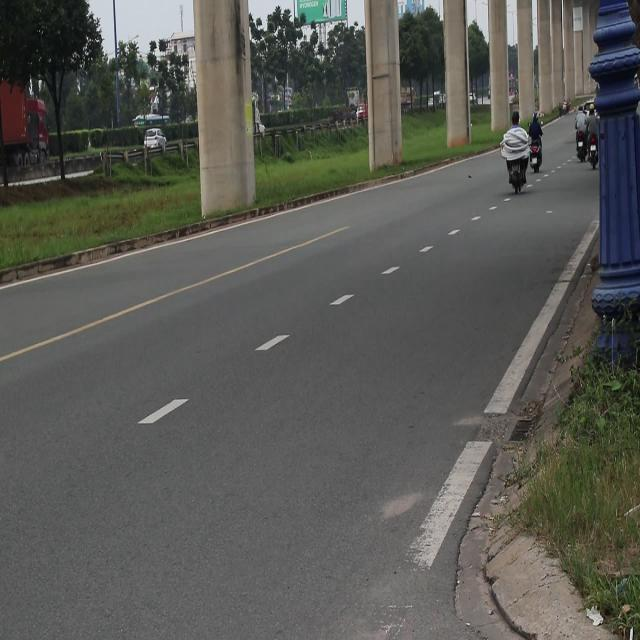car: (144, 129, 168, 152)
motorbike: (504, 156, 527, 203), (568, 132, 586, 164), (530, 142, 543, 174), (587, 138, 598, 174)
truck: (0, 82, 45, 181)
